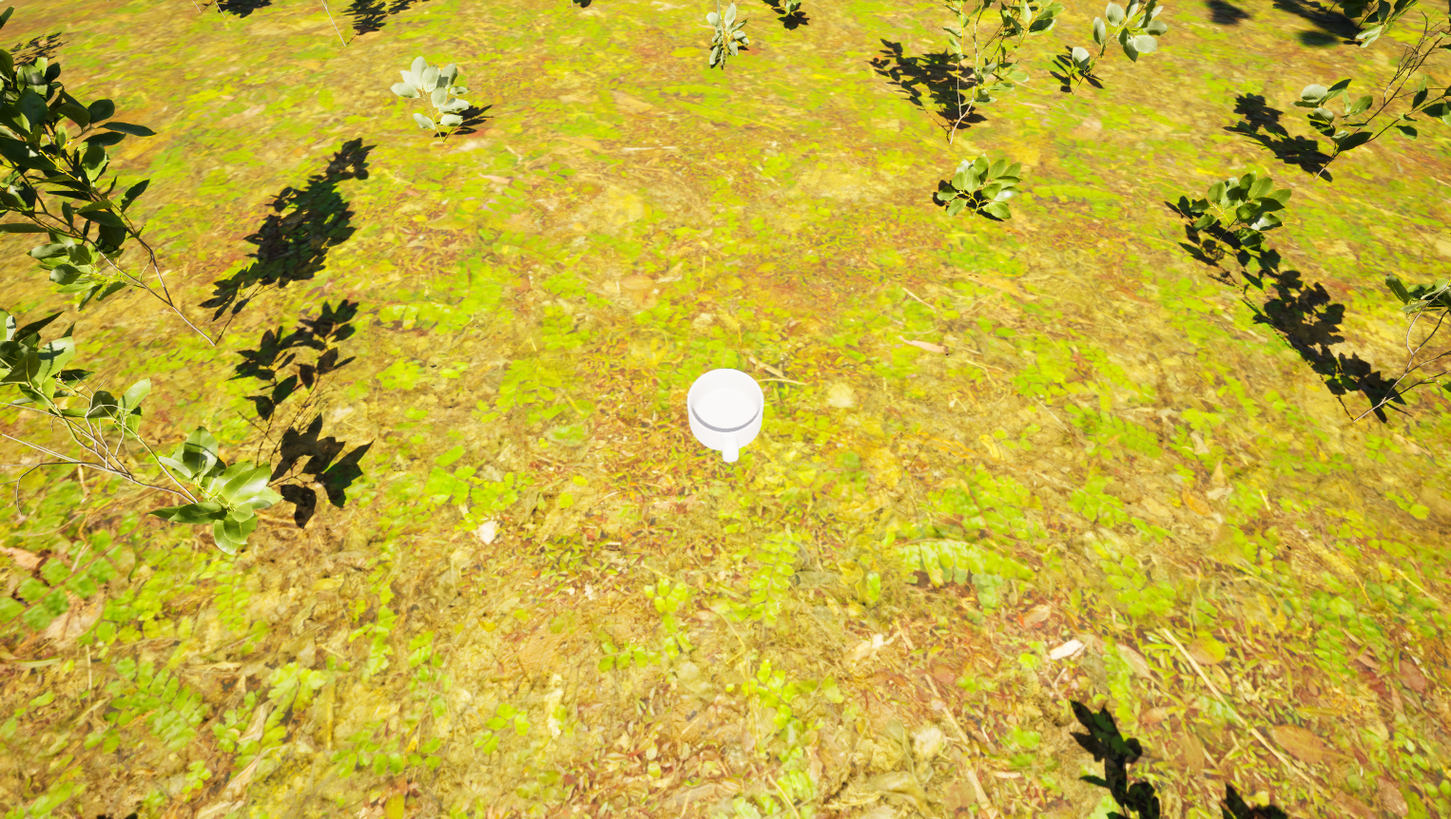Teacup: (667, 357, 777, 473)
